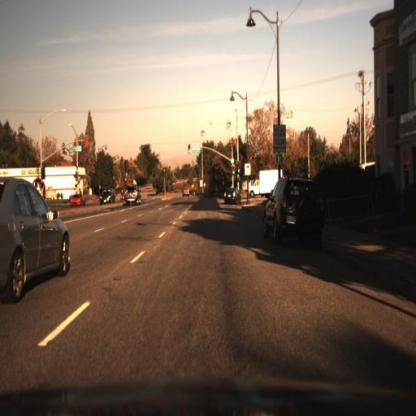car: (1, 175, 74, 306), (264, 172, 328, 244), (248, 167, 285, 201), (123, 181, 141, 211), (125, 184, 142, 208), (224, 187, 244, 205), (223, 187, 241, 205), (101, 191, 115, 207)
trafficLight-Green: (188, 141, 194, 157), (186, 143, 192, 157), (232, 167, 237, 182), (237, 165, 242, 177)
trafficLight-Red: (161, 166, 168, 179), (123, 174, 130, 184)
truck: (246, 164, 285, 199)
